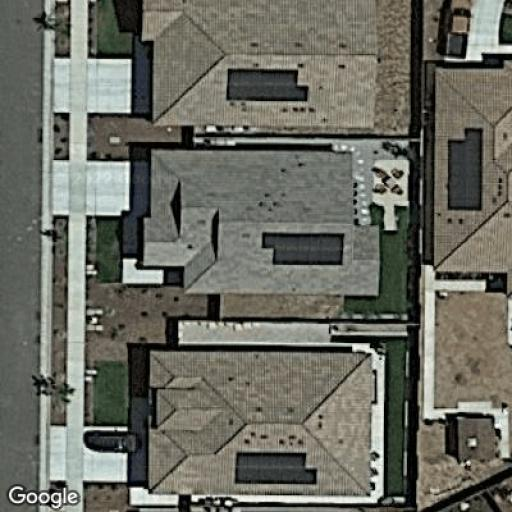solar-panel: (260, 229, 346, 269), (225, 66, 311, 105), (447, 123, 484, 213), (234, 449, 319, 488)
